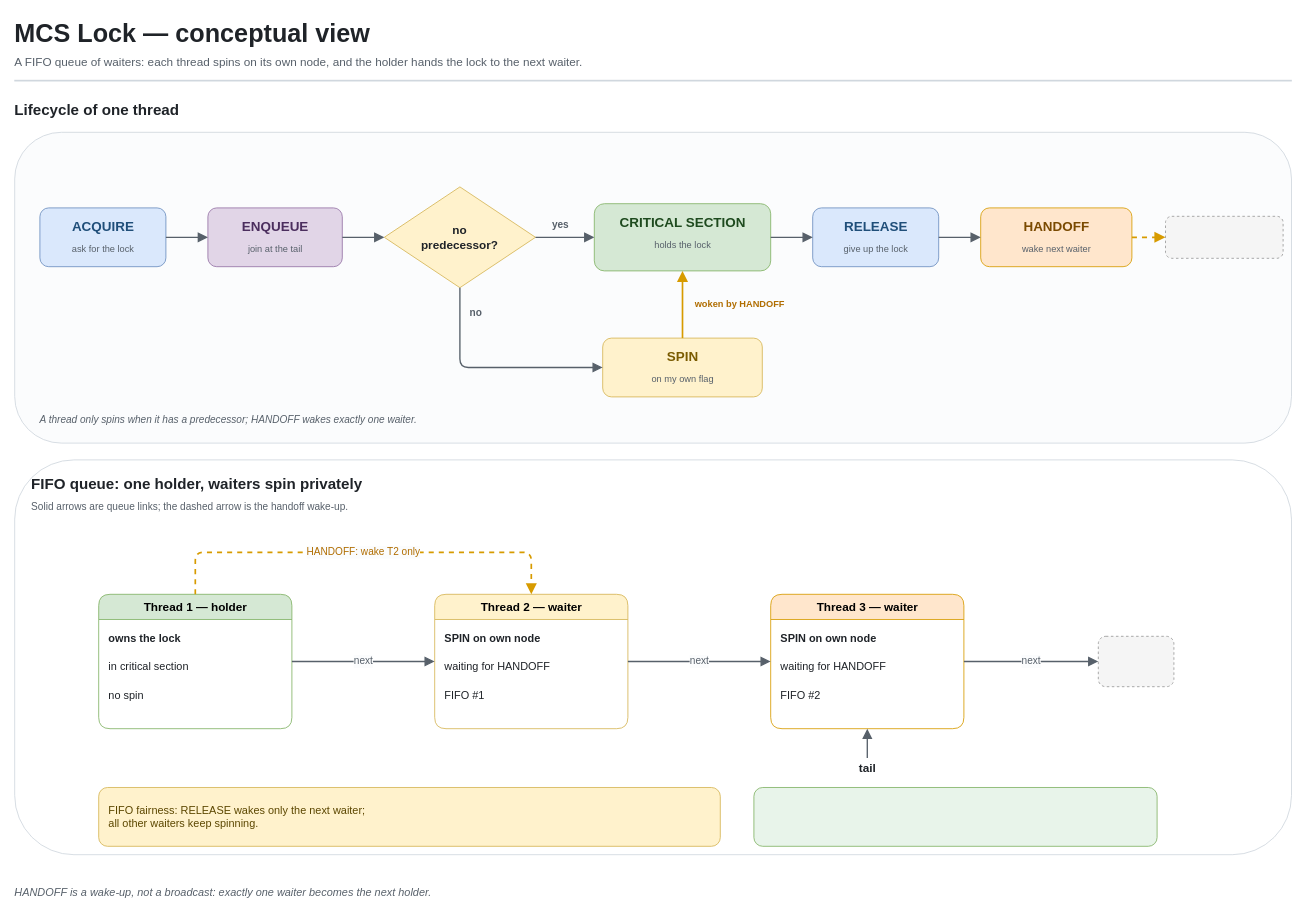
This 1306x919 diagram has some shape labels left out. Each missing label, with the box of its shape:
Each node has its own cache line, so waiters do not hammer a shared flag.: (753, 787, 1157, 846)
NEXT WAITER cycle repeats: (1165, 215, 1283, 258)
null: (1097, 635, 1174, 687)
